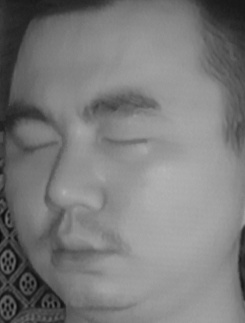blink: (99, 124, 155, 157), (11, 125, 56, 162)
mouth: (40, 219, 133, 278)
